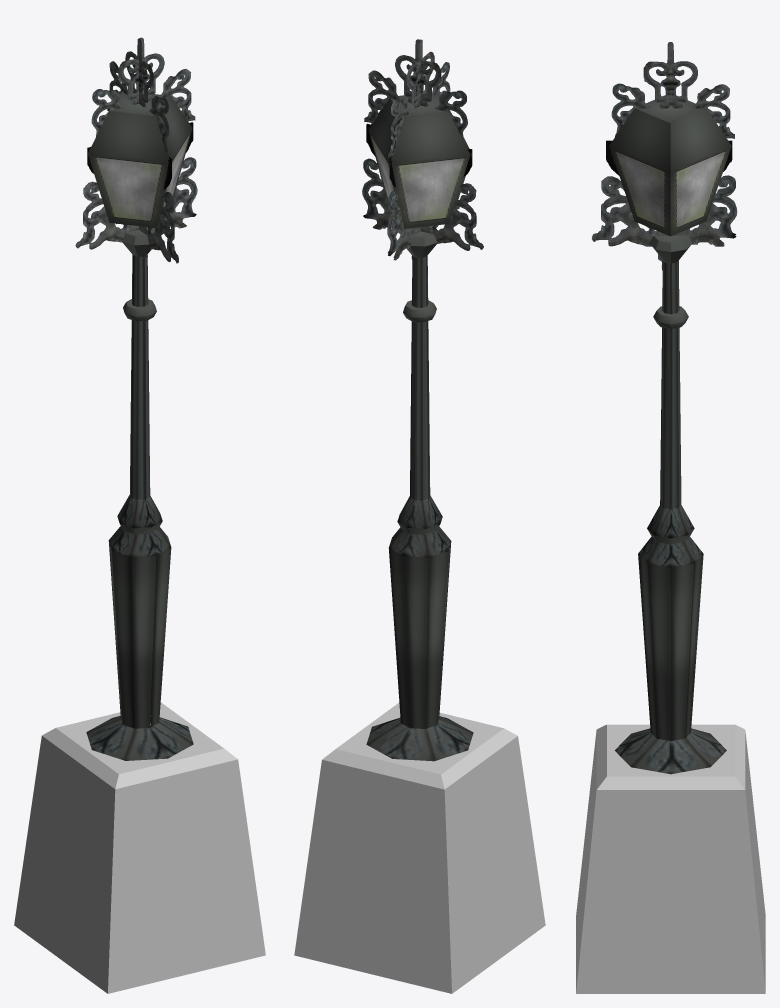
The model's file is lantaarn 3.fbx.
3 renders of one model, left to right at view 1: azimuth 30°, elevation 25°; view 2: azimuth 150°, elevation 25°; view 3: azimuth 270°, elevation 25°, orthographic.
Visible parts, largest first — view 1: Mesh Object; view 2: Mesh Object; view 3: Mesh Object.
Part boxes in pixels (x1=…): Mesh Object: x1=14, y1=37, x2=265, y2=993; Mesh Object: x1=294, y1=39, x2=545, y2=993; Mesh Object: x1=576, y1=42, x2=765, y2=993.
Bounding box in the file's own units: 0.72 × 3.93 × 0.7473.
